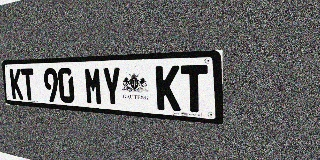0: (57, 68, 75, 103)
9: (43, 68, 59, 102)
K: (155, 65, 181, 111), (9, 69, 23, 100)
M: (84, 67, 103, 106)
T: (180, 65, 208, 113), (21, 68, 36, 101)
Y: (102, 67, 122, 107)
